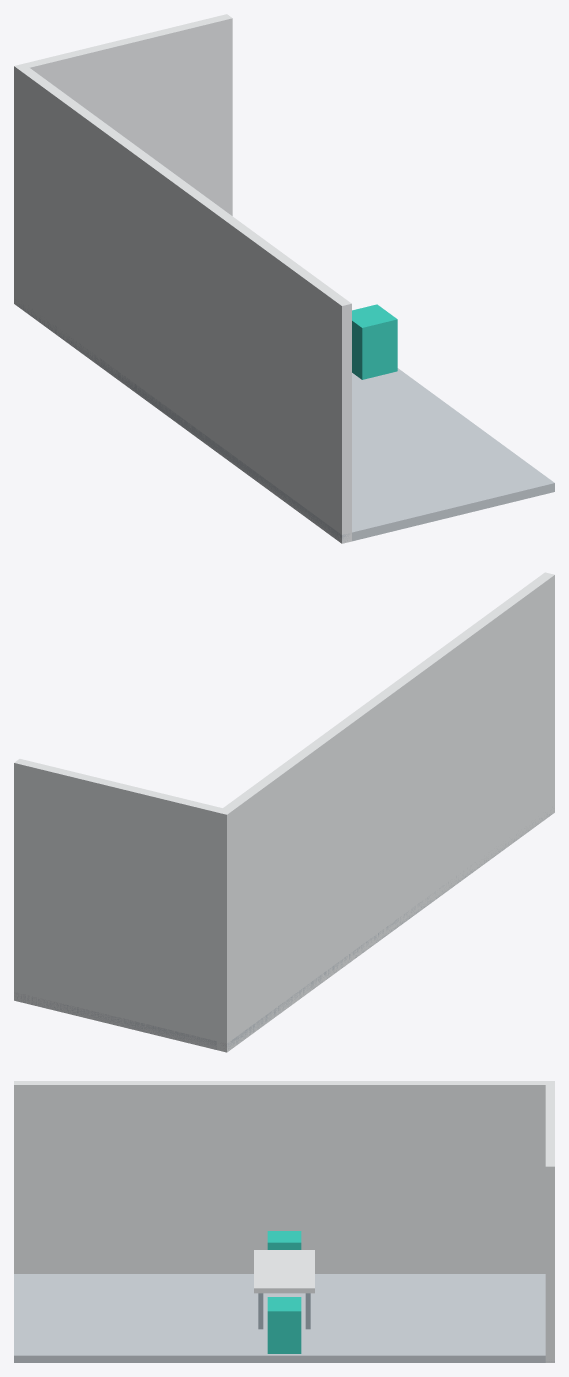
3 views of the same model, one above another, from view 1: azimuth 30°, elevation 25°; view 2: azimuth 150°, elevation 25°; view 3: azimuth 270°, elevation 25° (orthographic). The views are drawn at different scales.
Parts seen in each view (by area): view 1: Exhibition Booth Concept; view 2: Exhibition Booth Concept; view 3: Exhibition Booth Concept.
Boxes of the visible parts, x1,y1,x2,y2 form: Exhibition Booth Concept: (14, 14, 554, 543); Exhibition Booth Concept: (14, 572, 554, 1052); Exhibition Booth Concept: (14, 1081, 554, 1362).
Bounding box in the file's own units: 3 × 3.2 × 8.
